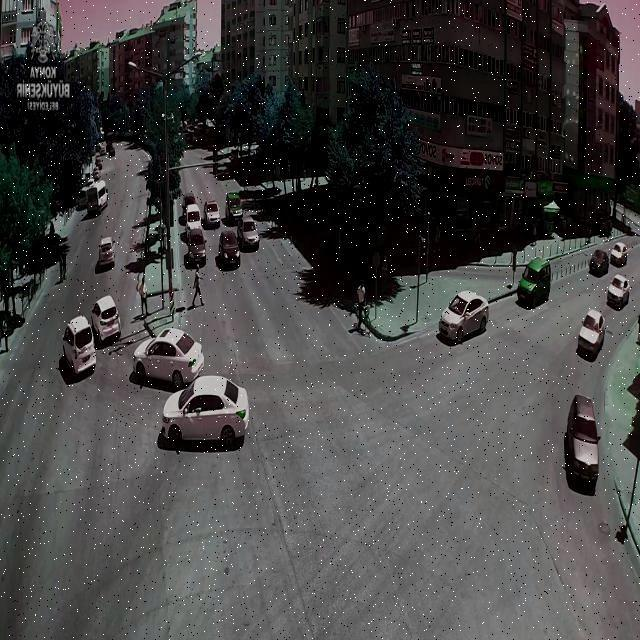Car: (161, 375, 252, 456), (132, 328, 208, 391), (562, 393, 604, 496), (439, 288, 495, 350), (572, 312, 608, 366), (93, 295, 121, 350), (605, 273, 631, 310), (95, 233, 118, 274), (216, 231, 239, 269), (185, 230, 207, 264), (238, 216, 258, 253), (608, 240, 629, 270), (586, 248, 608, 275), (202, 200, 222, 228), (185, 205, 202, 231)
Truck: (87, 176, 111, 222), (224, 193, 244, 223)
Van: (58, 315, 98, 380), (515, 259, 553, 309)
